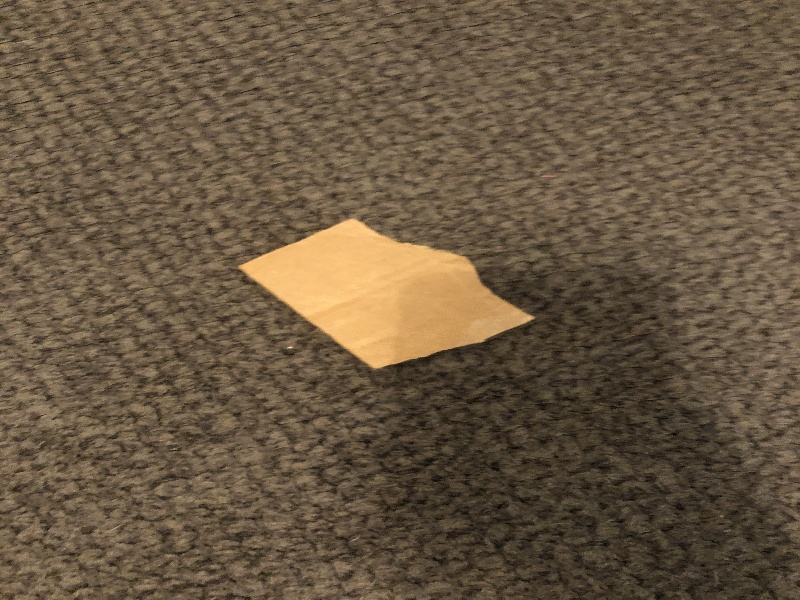cardboard: (235, 214, 543, 380)
